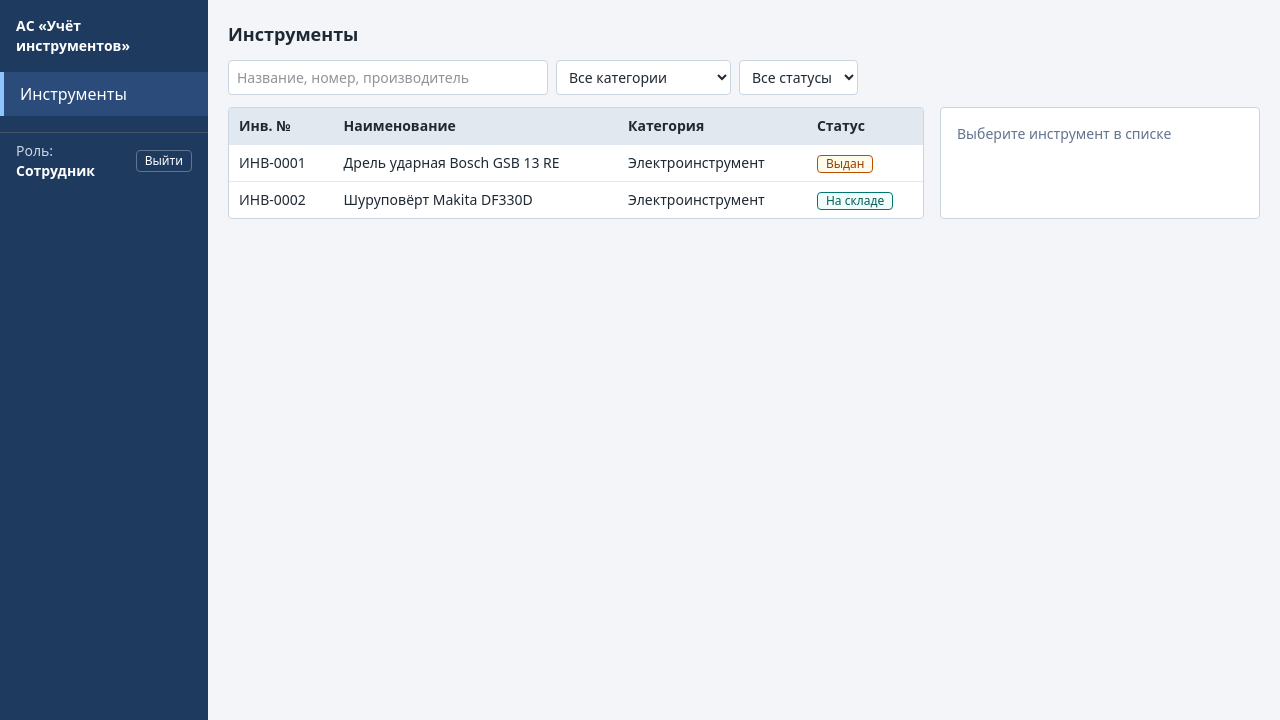
Test: role-based access › hides the issue history from the employee and never requests it
The width and height of the screenshot is (1280, 720).
Click the text "Шуруповёрт Makita DF330D". click: (476, 200)
box: [334, 182, 618, 218]
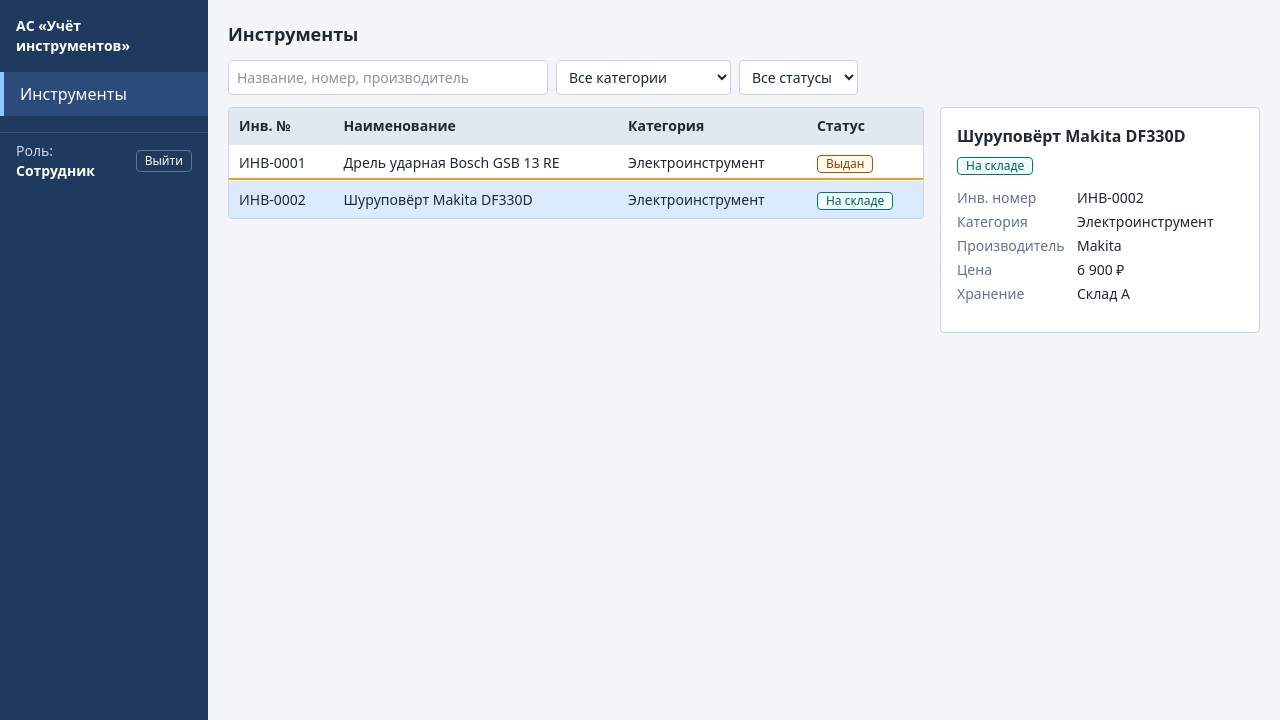
Expected: the heading "Шуруповёрт Makita DF330D" is shown, [957, 125, 1186, 147]
